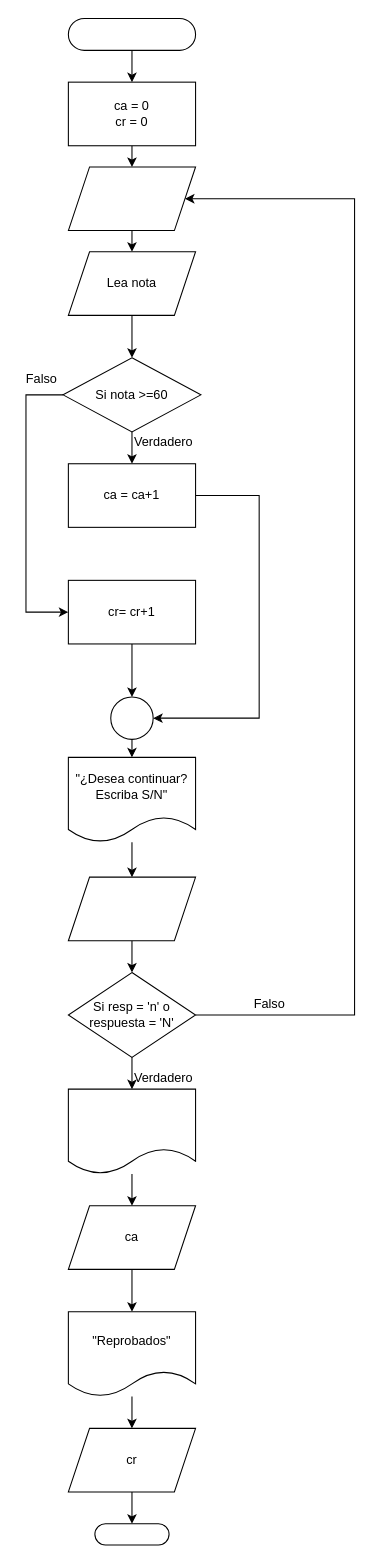
The diagram is 382 pixels wide and 1563 high, and some of its shapes have lost their labels. The shapes that lost their labels are listed below. From the top down, each one's box as (x1, y1, x2, y2) in pixels, then its label:
(67, 17, 196, 50): Inicio
(67, 166, 196, 231): Lea nombre
(67, 876, 196, 941): Lea resp
(67, 1088, 196, 1174): "Aprobados"
(94, 1523, 169, 1545): Fin
